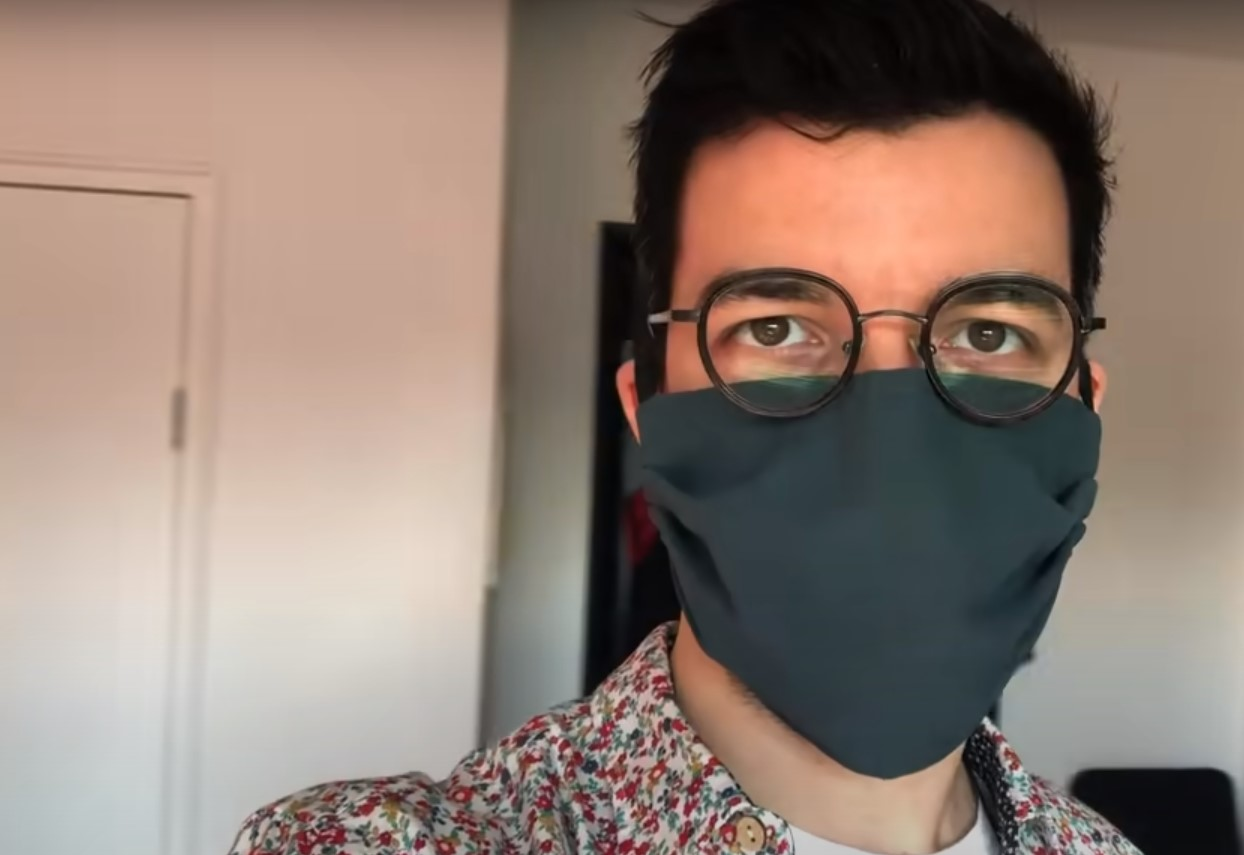face_with_mask: (612, 0, 1112, 779)
